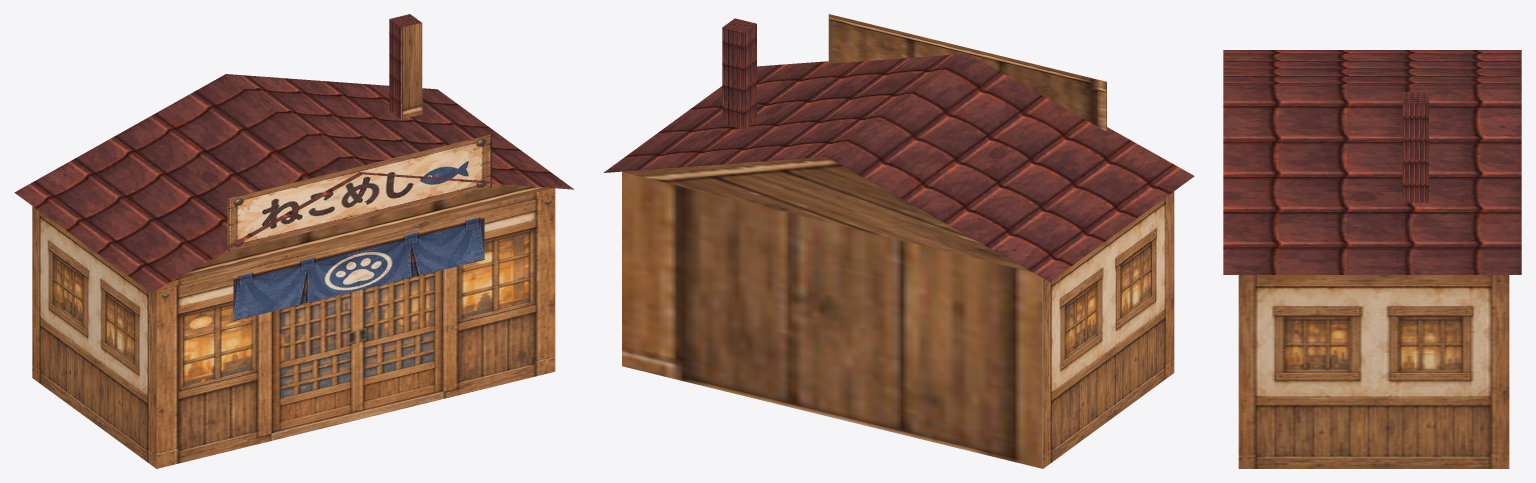
Rendered from nyanisyarud-harbor-diner-far-rust.glb.
The picture shows the model from 3 angles, left to right: view 1: azimuth 30°, elevation 25°; view 2: azimuth 150°, elevation 25°; view 3: azimuth 270°, elevation 25°; orthographic projection. The views are drawn at different scales.
Visible parts, largest first — view 1: 06_harbor_diner_Far_rust; view 2: 06_harbor_diner_Far_rust; view 3: 06_harbor_diner_Far_rust.
Part boxes in pixels (x1=…): 06_harbor_diner_Far_rust: x1=14, y1=14, x2=573, y2=468; 06_harbor_diner_Far_rust: x1=603, y1=14, x2=1194, y2=468; 06_harbor_diner_Far_rust: x1=1223, y1=50, x2=1521, y2=468.
Size of the model in its own units: 3.44 by 2.39 by 1.93.
Materials: 1 (1 with a texture image).
